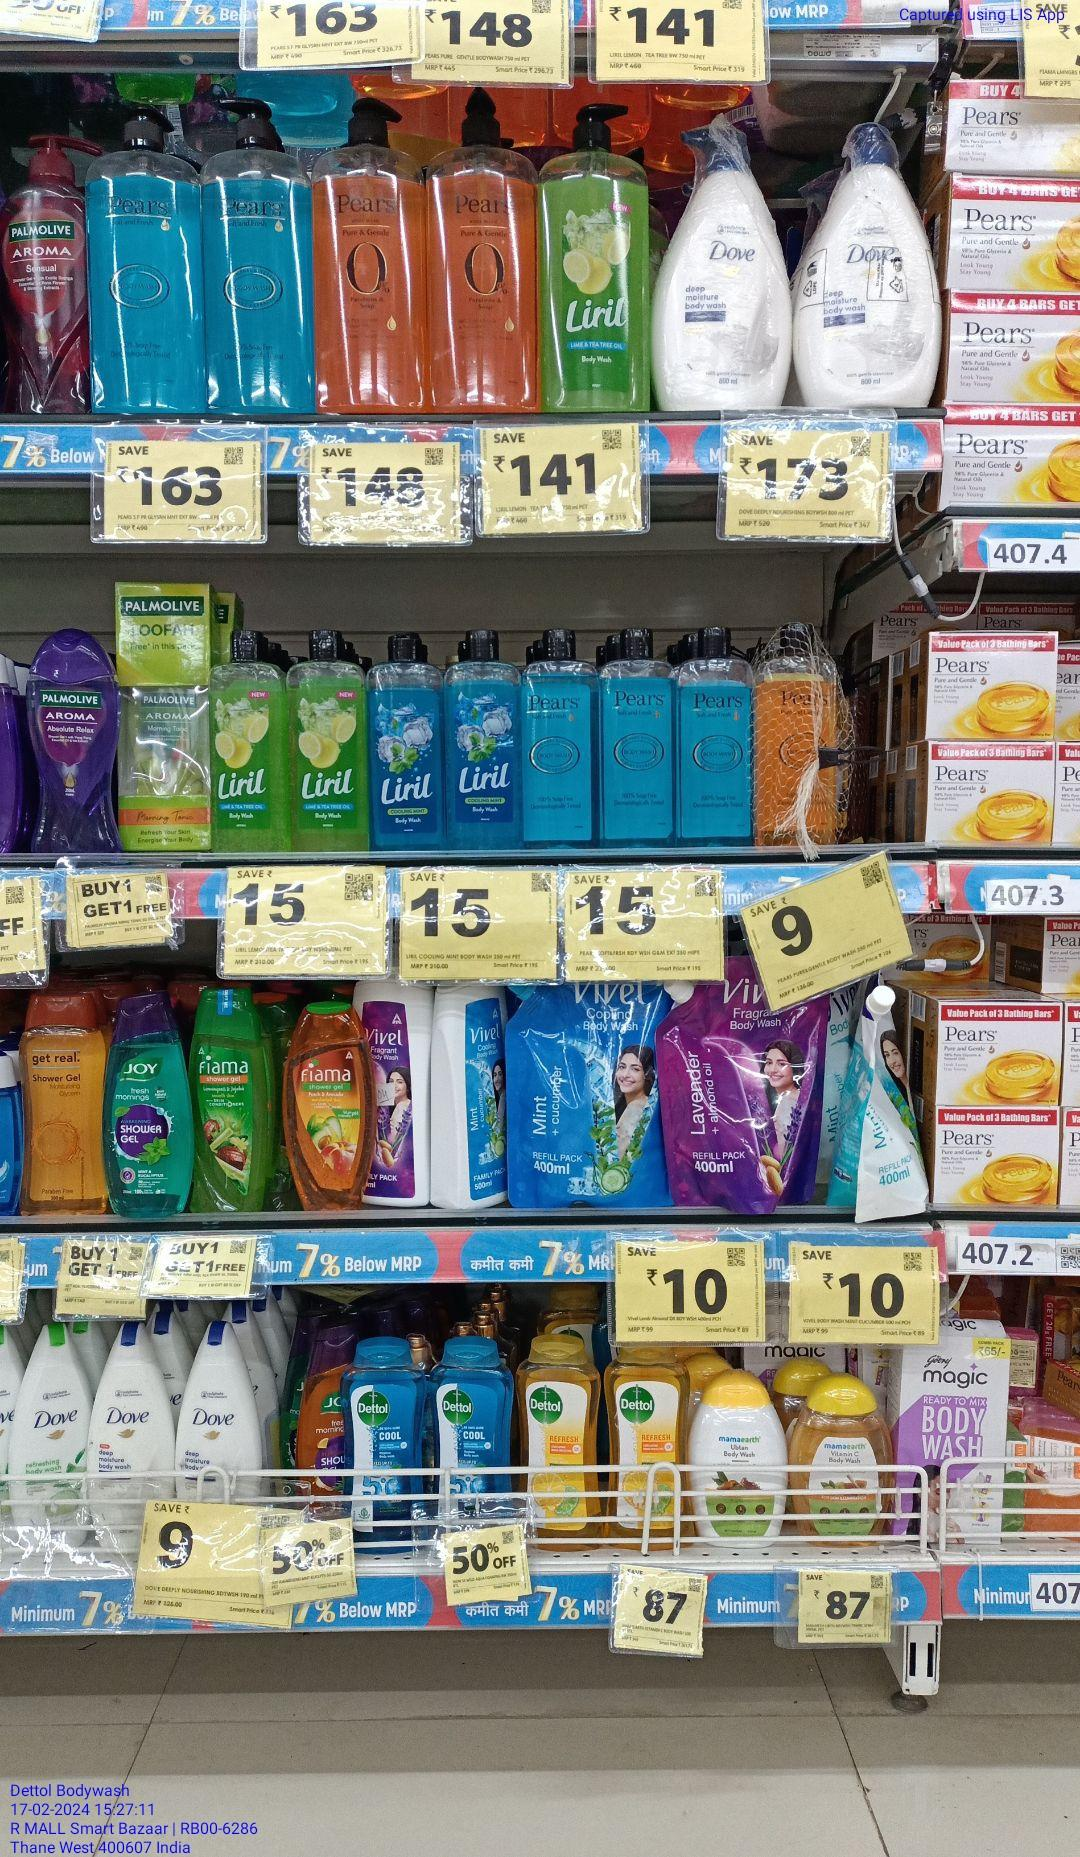Dettol_Bodywash_Cool: (345, 1334, 418, 1538), (433, 1335, 509, 1515)
Dettol_Bodywash_Refresh: (604, 1343, 692, 1554), (518, 1334, 604, 1543)
Dove_Deep_Moisture_Body_Wash_250ML: (98, 1322, 171, 1543), (175, 1321, 265, 1500)
Dove_Refreshing_Body_Wash_250ML: (12, 1324, 91, 1549)
Fiama_Shower_Gel_Lemongrass_and_Jojoba_250ML: (197, 990, 270, 1212)
Fiama_Shower_Gel_Peach_and_Avocado_250ML: (285, 1001, 372, 1212)
Get_Real_Shower_Gel_Moisturising_Glycerin_300ML: (23, 993, 105, 1214)
Joy_Shower_Gel_Mint_and_Eucalyptus_250ML: (112, 993, 190, 1220)
Liril_Cooling_Mint_Body_Wash_250ML: (444, 626, 521, 844), (373, 626, 442, 848)
Liril_Lime_and_Tea_Tree_Oil_Body_Wash_250ML: (293, 630, 370, 853), (212, 634, 288, 856)
Palmolive_Aroma_Relax_250ML: (28, 630, 114, 852)
Pears_Pure_Glycerin_and_Mint_Extracts_Body_Wash_250ML: (521, 627, 597, 848), (600, 628, 674, 849), (683, 618, 753, 846)
